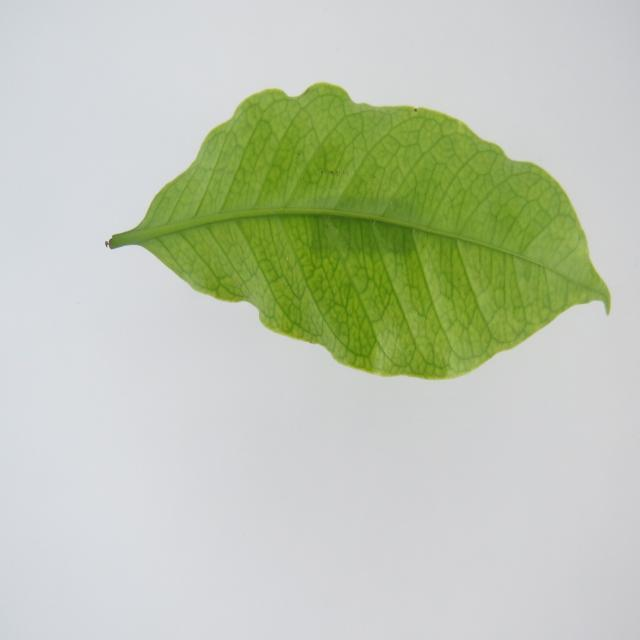DeficienciaNutricional-Calcio: (109, 83, 610, 378)
